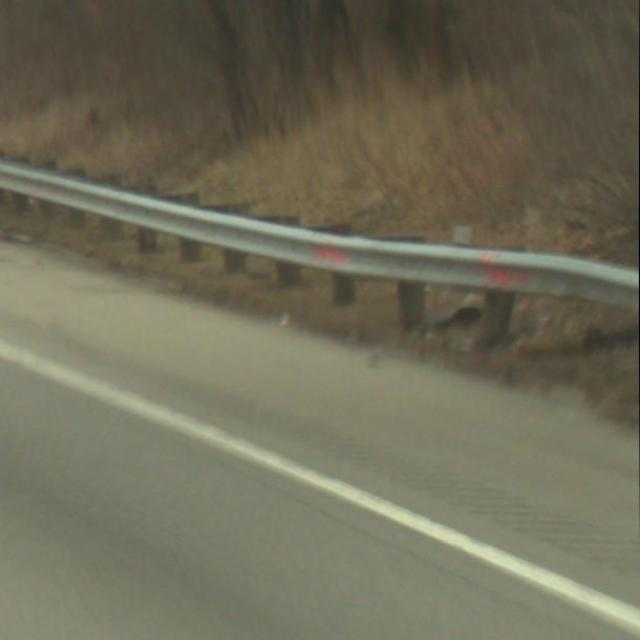Guard rail: (0, 149, 640, 348)
